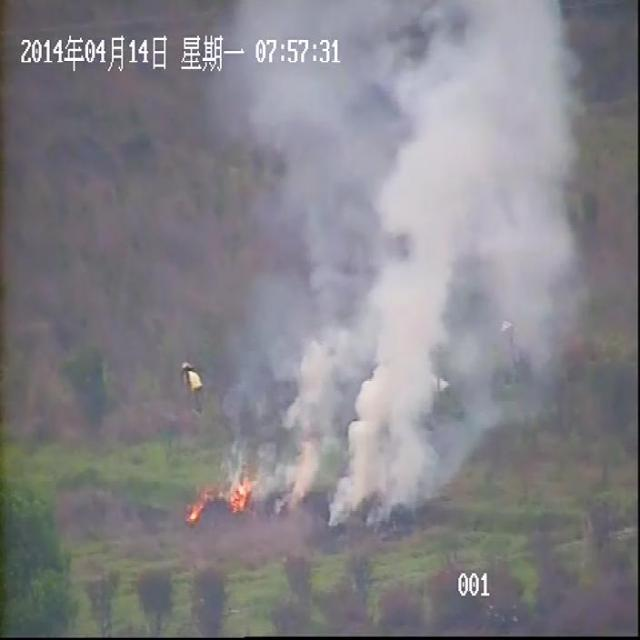fire: (185, 486, 212, 526), (224, 477, 250, 513)
smoke: (218, 2, 584, 527)
